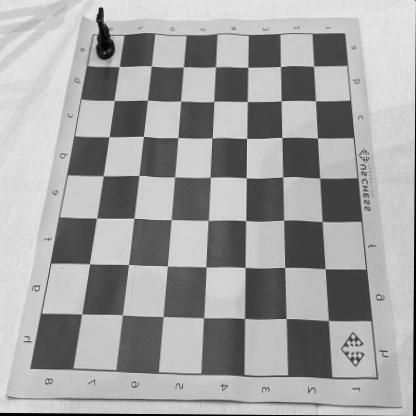black-knight: (95, 7, 116, 61)
